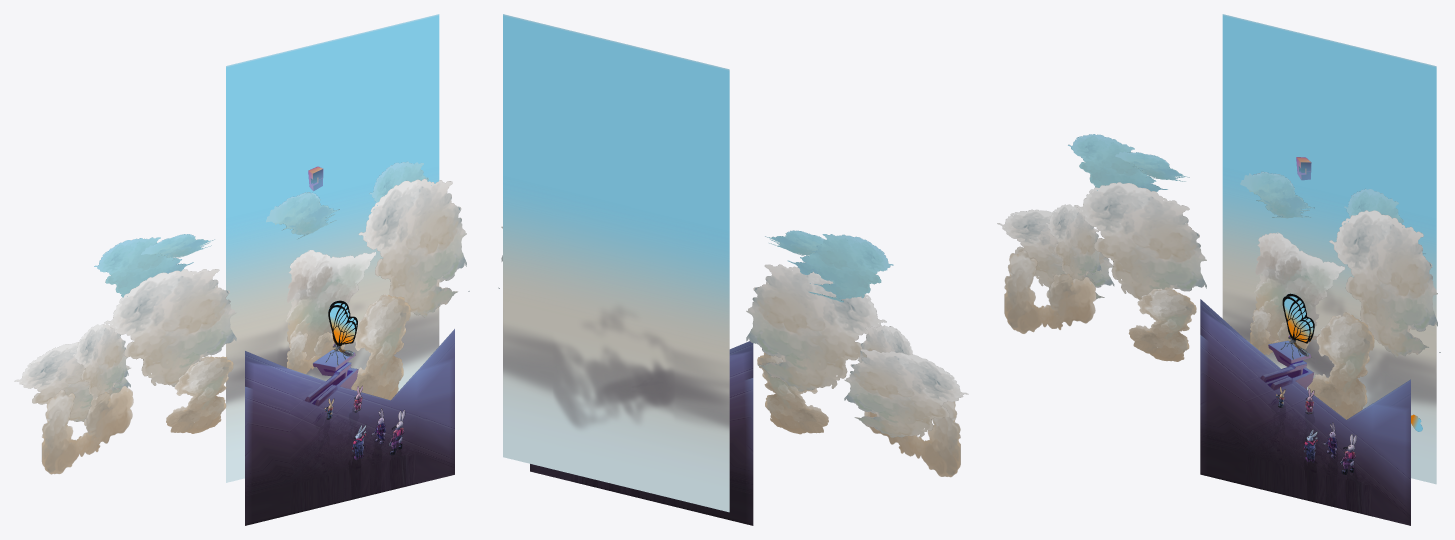
The model's file is portrait1.glb.
The picture shows the model from 3 angles, left to right: view 1: azimuth 30°, elevation 25°; view 2: azimuth 150°, elevation 25°; view 3: azimuth 330°, elevation 25°; orthographic projection. The views are drawn at different scales.
Parts seen in each view (by area): view 1: sky, ground.png, mid_cloud_0_1, mid_cloud_0.png, front_clouds1, front_clouds0, mid_cloud_1.png, mid_cloud_0_3, mid_cloud_0_2, back_cloud_1_2, back_cloud_0.png, rabbits.png (+3 smaller); view 2: sky, mid_cloud_0_1, mid_cloud_0_3, ground.png, front_clouds1, back_cloud_1_2, mid_cloud_0_2, back_cloud_0_1; view 3: sky, ground.png, mid_cloud_0.png, mid_cloud_0_1, front_clouds1, front_clouds0, mid_cloud_1.png, mid_cloud_0_3, mid_cloud_0_2, back_cloud_1_2, back_cloud_0.png, rabbits.png (+3 smaller).
Part boxes in pixels (x1=…): sky: x1=226, y1=14, x2=439, y2=482; ground.png: x1=245, y1=329, x2=454, y2=525; mid_cloud_0_1: x1=104, y1=269, x2=236, y2=387; mid_cloud_0.png: x1=358, y1=178, x2=469, y2=317; front_clouds1: x1=42, y1=356, x2=233, y2=474; front_clouds0: x1=286, y1=294, x2=410, y2=400; mid_cloud_1.png: x1=285, y1=250, x2=376, y2=359; mid_cloud_0_3: x1=14, y1=342, x2=130, y2=421; mid_cloud_0_2: x1=73, y1=323, x2=128, y2=402; back_cloud_1_2: x1=94, y1=237, x2=193, y2=297; back_cloud_0.png: x1=266, y1=192, x2=339, y2=239; rabbits.png: x1=324, y1=385, x2=405, y2=460; sky: x1=503, y1=14, x2=729, y2=512; mid_cloud_0_1: x1=746, y1=264, x2=886, y2=391; mid_cloud_0_3: x1=844, y1=349, x2=968, y2=437; ground.png: x1=530, y1=341, x2=753, y2=525; front_clouds1: x1=757, y1=353, x2=960, y2=477; back_cloud_1_2: x1=787, y1=234, x2=893, y2=302; mid_cloud_0_2: x1=857, y1=325, x2=912, y2=362; back_cloud_0_1: x1=765, y1=230, x2=831, y2=256; sky: x1=1222, y1=14, x2=1436, y2=484; ground.png: x1=1200, y1=299, x2=1410, y2=525; mid_cloud_0.png: x1=1329, y1=210, x2=1440, y2=357; mid_cloud_0_1: x1=1074, y1=182, x2=1206, y2=299; front_clouds1: x1=1004, y1=250, x2=1196, y2=361; front_clouds0: x1=1250, y1=308, x2=1374, y2=419; mid_cloud_1.png: x1=1254, y1=232, x2=1344, y2=341; mid_cloud_0_3: x1=997, y1=209, x2=1114, y2=299; mid_cloud_0_2: x1=1046, y1=204, x2=1101, y2=284; back_cloud_1_2: x1=1068, y1=134, x2=1167, y2=191; back_cloud_0.png: x1=1240, y1=171, x2=1314, y2=218; rabbits.png: x1=1276, y1=387, x2=1356, y2=474.
Size of the model in its own units: 1.52 by 1.43 by 0.1332.
Materials: 14 (14 with a texture image).
